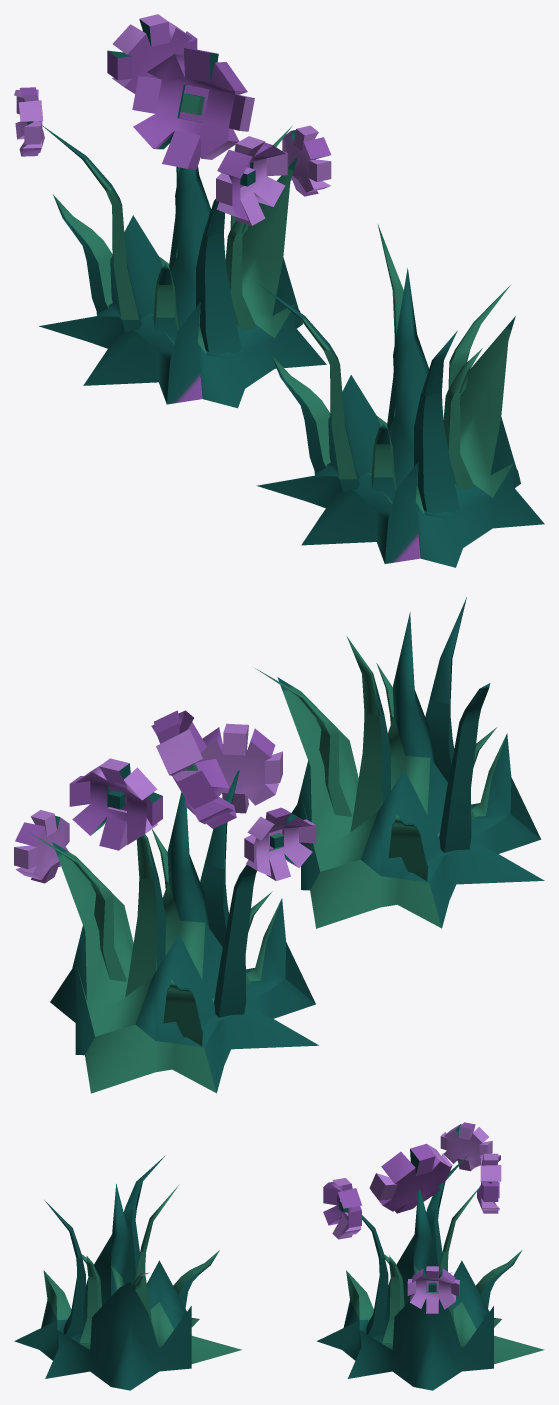
The model's file is maledette piantine.fbx.
3 renders of one model, top to bottom at view 1: azimuth 30°, elevation 25°; view 2: azimuth 150°, elevation 25°; view 3: azimuth 270°, elevation 25°, orthographic. The views are drawn at different scales.
Visible parts, largest first — view 1: Tall_Grass1, Tall_Grass2; view 2: Tall_Grass1, Tall_Grass2; view 3: Tall_Grass1, Tall_Grass2.
Part boxes in pixels (left/top/right/bottom): Tall_Grass1: left=14, top=14, right=331, bottom=408; Tall_Grass2: left=256, top=224, right=544, bottom=567; Tall_Grass1: left=14, top=710, right=318, bottom=1093; Tall_Grass2: left=255, top=597, right=544, bottom=928; Tall_Grass1: left=317, top=1122, right=544, bottom=1390; Tall_Grass2: left=14, top=1155, right=241, bottom=1390.
Size of the model in its own units: 0.02 by 0.02 by 0.0465.
